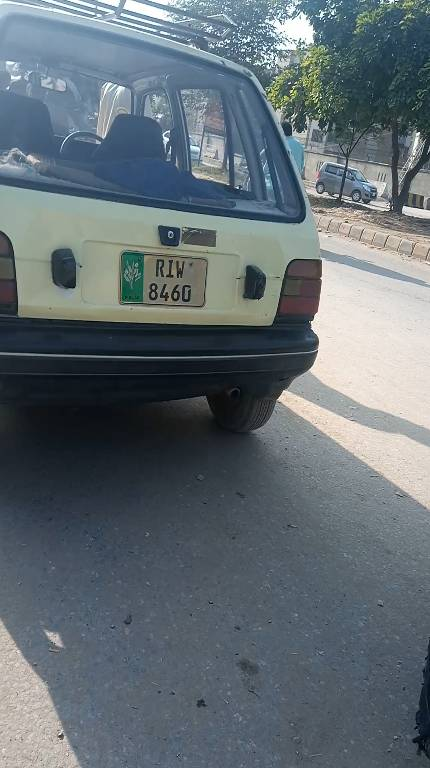number_plate: (118, 247, 218, 313)
